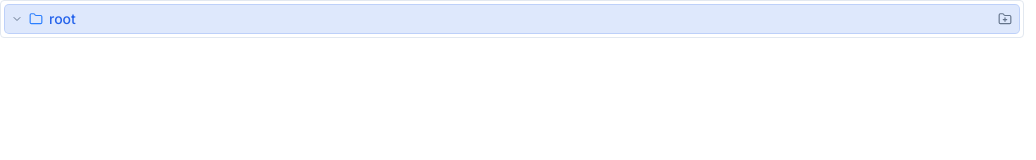
Test: FolderTreePicker › bricht das Inline-Formular per Escape ab
Expected: the text "root" is shown, x1=49 y1=9 x2=76 y2=29
Click the button named "Neuer Unterordner": (1005, 19) x1=995 y1=9 x2=1015 y2=29
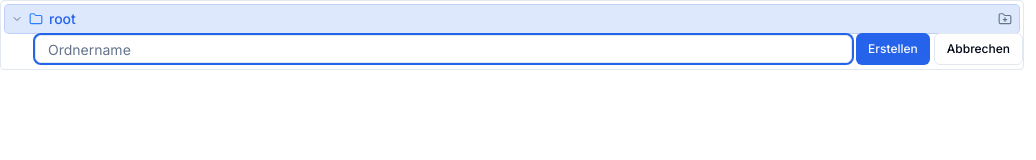
Press Escape in the field with placeholder "Ordnername", box x1=35 y1=35 x2=852 y2=63
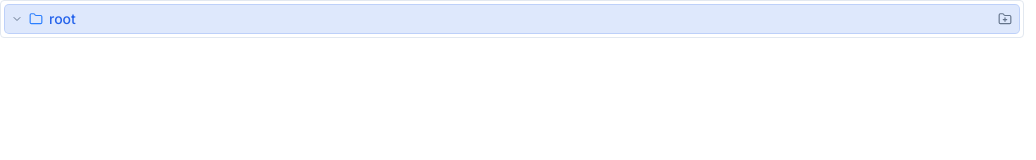
Result: the field with placeholder "Ordnername" is gone
